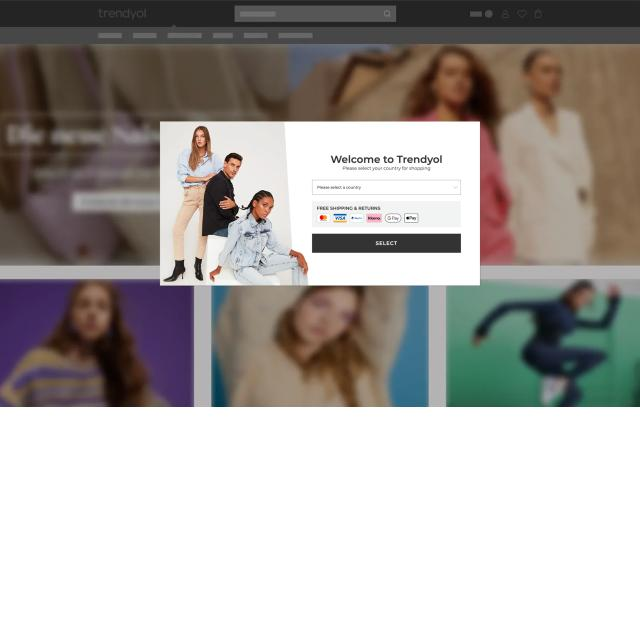CheckBox: (312, 234, 461, 254)
Input field: (340, 166, 432, 171)
alert: (310, 178, 462, 196)
breadcrumbs: (316, 205, 382, 212)
carousel: (384, 213, 402, 222), (366, 213, 382, 223), (349, 213, 364, 223), (333, 213, 347, 223), (404, 213, 418, 223), (316, 214, 331, 222), (452, 184, 458, 190)
copy: (160, 123, 310, 284)
data feed: (316, 184, 362, 190), (376, 241, 398, 246)
header: (160, 120, 480, 286)
image: (328, 152, 444, 166)
